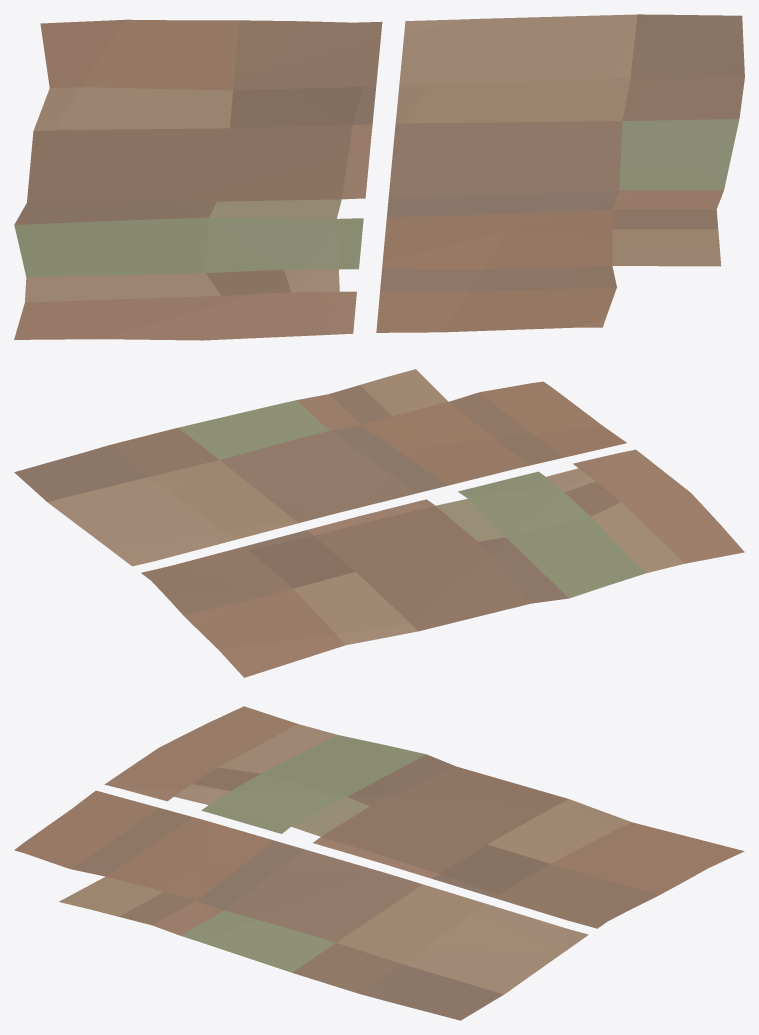
Rendered from farm_3_-6_soil.glb.
3 views of the same model, one above another, from view 1: azimuth 30°, elevation 25°; view 2: azimuth 150°, elevation 25°; view 3: azimuth 270°, elevation 25° (orthographic). The views are drawn at different scales.
Parts seen in each view (by area): view 1: geometry_0; view 2: geometry_0; view 3: geometry_0.
Part boxes in pixels (<box>): geometry_0: <box>14,14,744,340</box>; geometry_0: <box>14,369,744,677</box>; geometry_0: <box>14,706,744,1020</box>.
Size of the model in its own units: 333 by 14.54 by 324.
